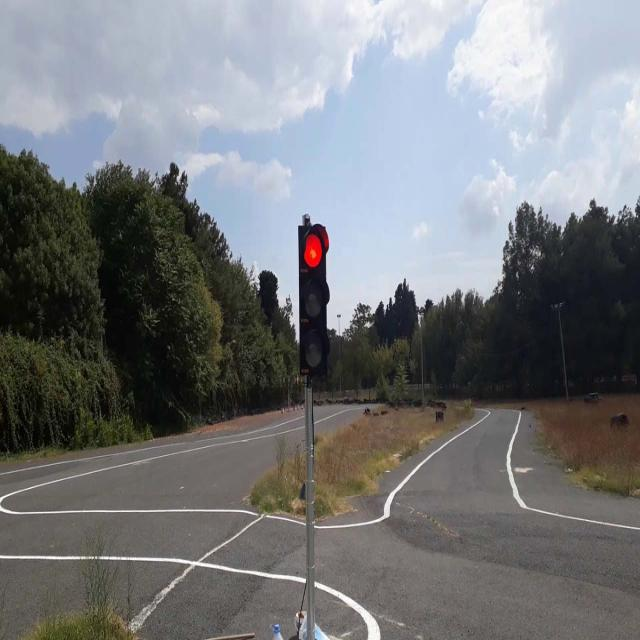kirmizi: (297, 222, 330, 374)
